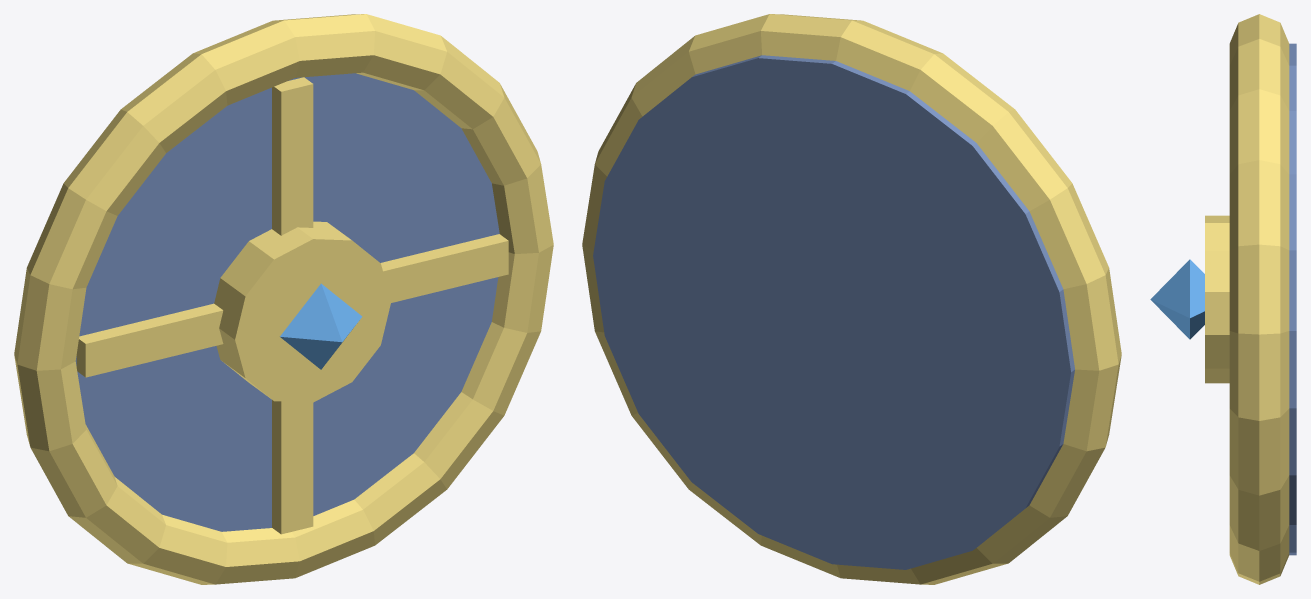
Rendered from shield-gold.glb.
3 views of the same model, side by side, from view 1: azimuth 30°, elevation 25°; view 2: azimuth 150°, elevation 25°; view 3: azimuth 270°, elevation 25° (orthographic). The views are drawn at different scales.
Bounding box in the file's own units: 1.16 × 1.16 × 0.295.
